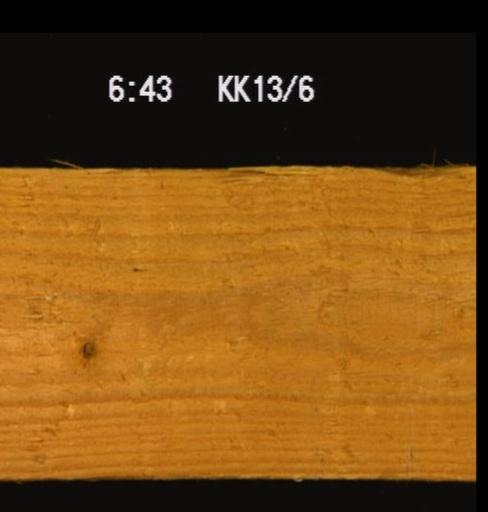dry_knot: (78, 334, 98, 361)
split: (231, 165, 473, 198)
